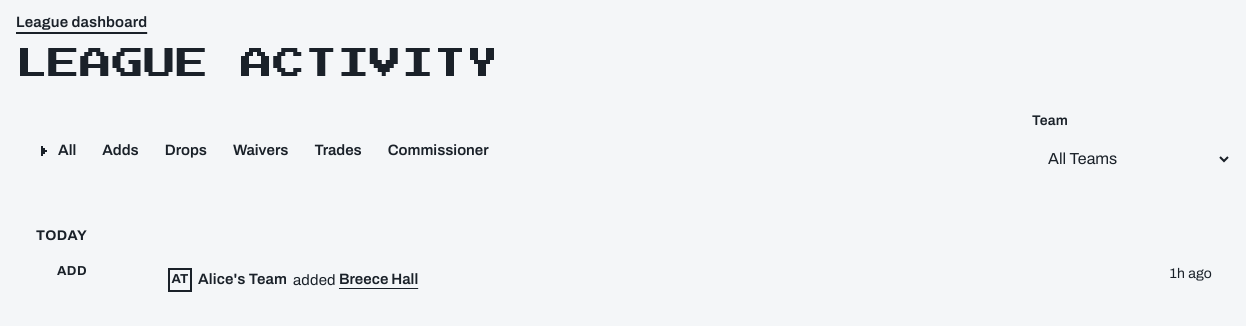
Scenario: shows a filtered-empty message distinct from the true empty state
Check: the list item with test id "txn-1" is shown, box [36,250,1212,310]
What coordinates should you click on to do the following:
click the radio button labelled "Trades"
I would click on:
 (338, 151)
Its box is [300,129,376,173].
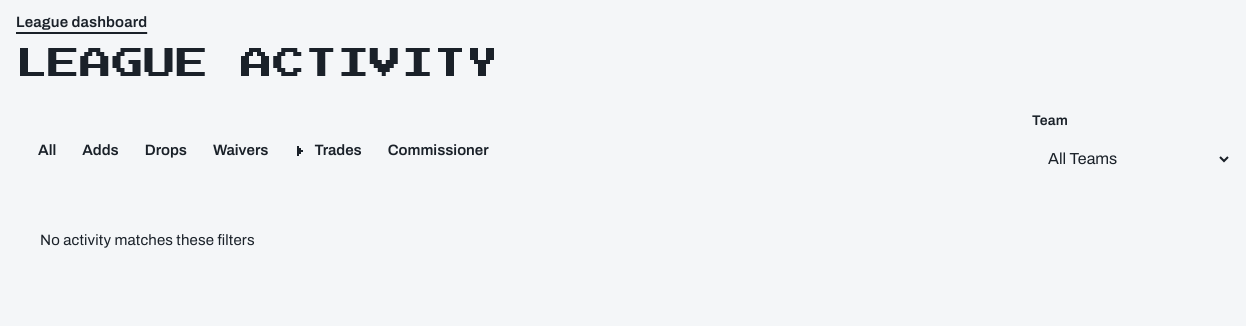
Check: the text "No activity matches these filters" is shown, box [40,232,255,248]
